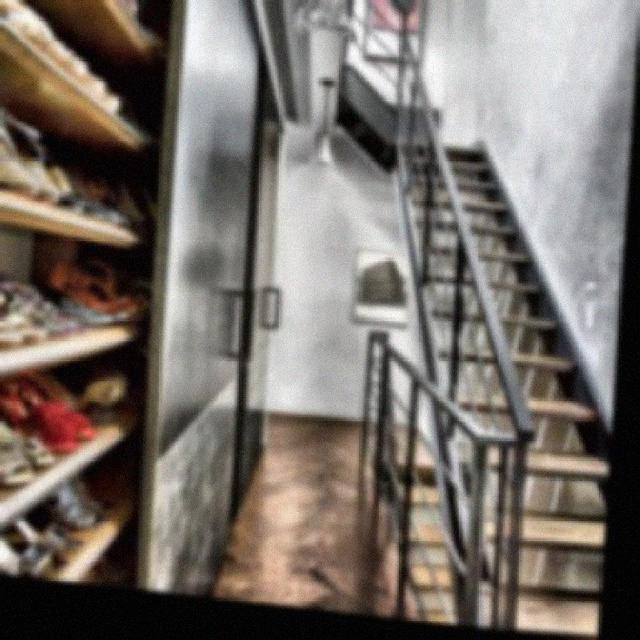stair: (403, 254, 626, 635)
